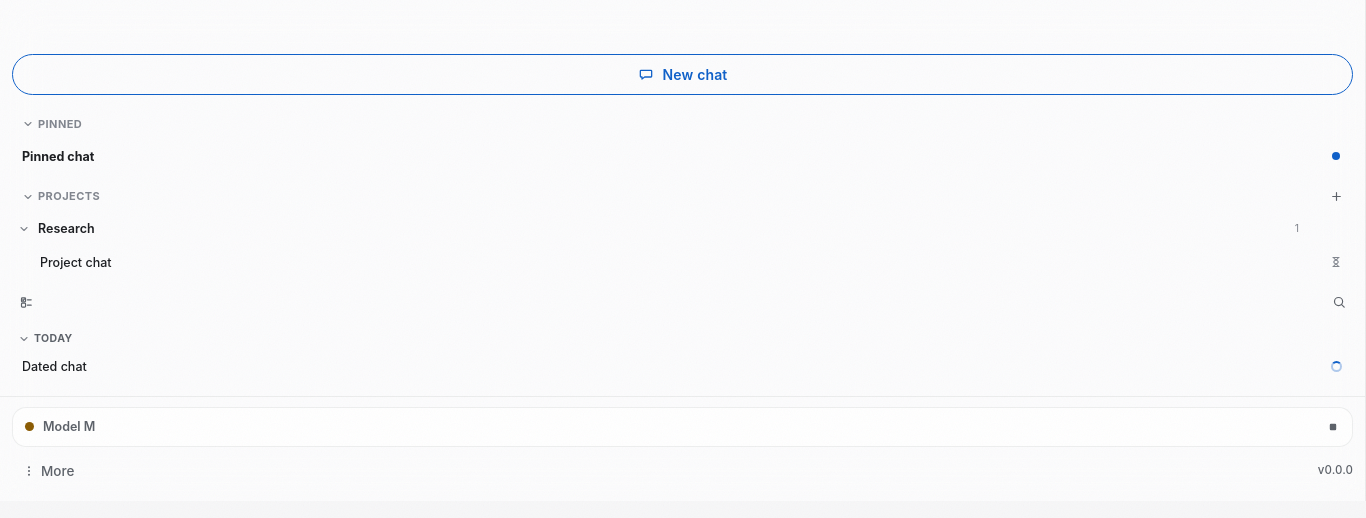
the engine pill while a model is loading › offers a stop control in place of the spinner, and clicking it stops the load
The width and height of the screenshot is (1366, 518).
Click the button named "Cancel loading" at coordinates (1333, 426), box [1319,412,1347,440]
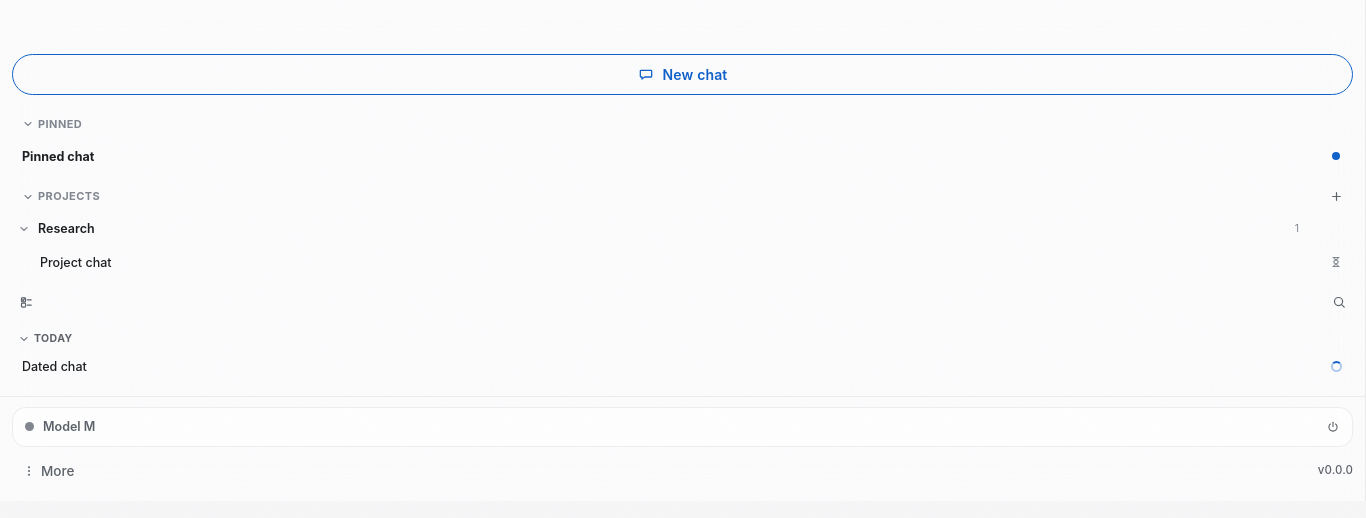
Now the element titled "Asleep" is shown, box [25,422,34,431]
